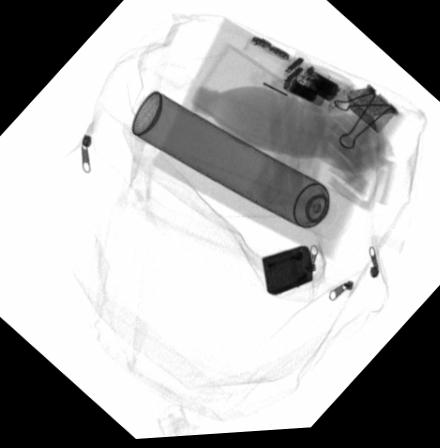Lighter: (261, 248, 313, 299)
Sprayer: (133, 93, 354, 244)
